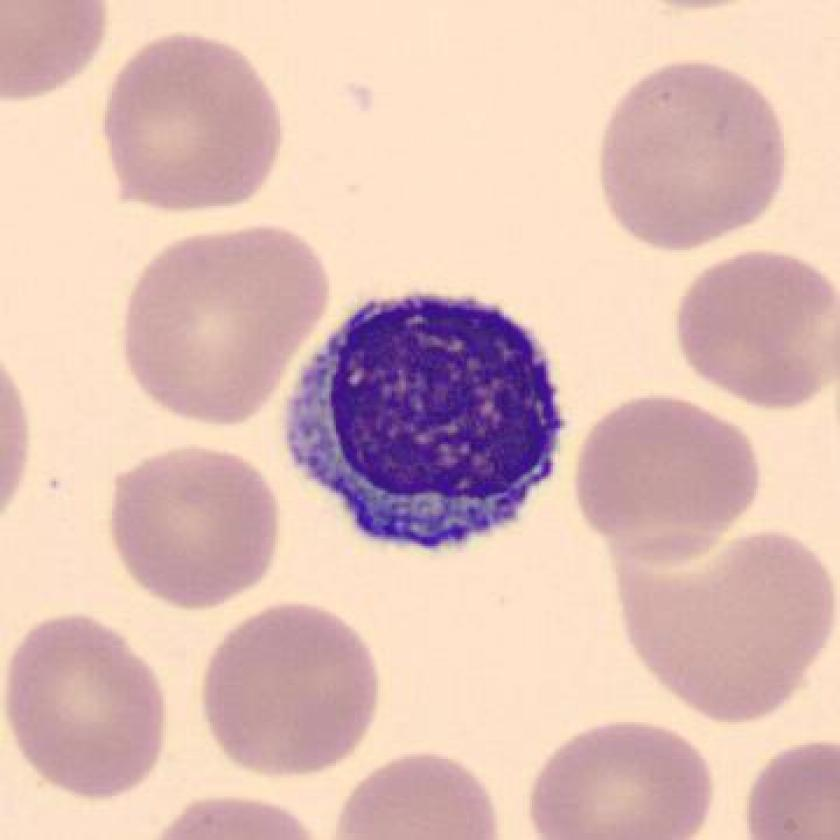lymphocyte: (274, 269, 580, 575)
